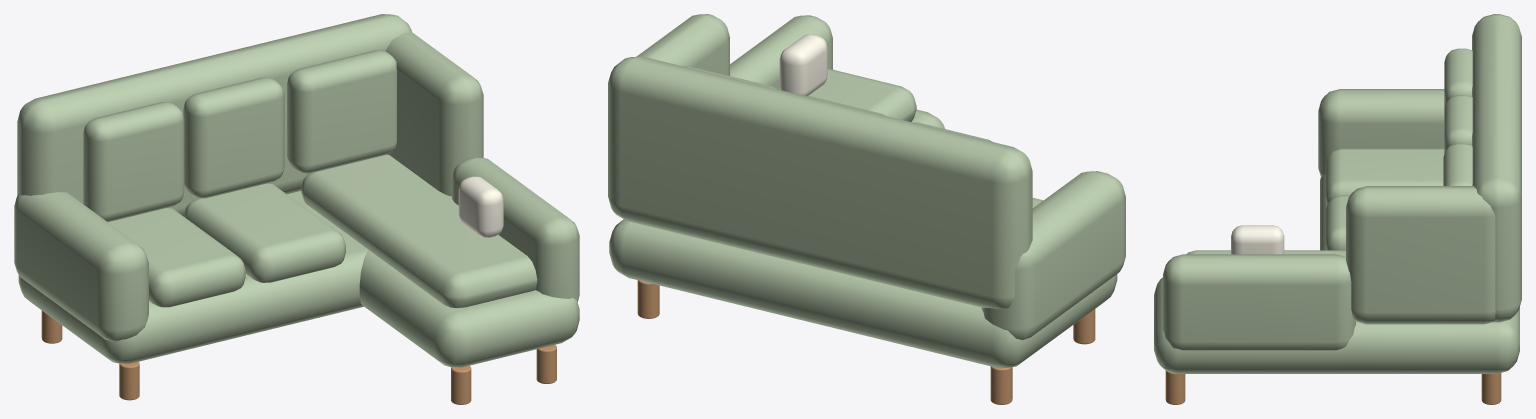
The model's file is sofaCornerSage.glb.
The picture shows the model from 3 angles, left to right: view 1: azimuth 30°, elevation 25°; view 2: azimuth 150°, elevation 25°; view 3: azimuth 270°, elevation 25°; orthographic projection. The views are drawn at different scales.
Parts seen in each view (by area): view 1: Corner sofa back, Long chaise cushion, Left sofa arm, Corner sofa main base, Extended chaise base, Chaise back cushion, Corner side back, Corner sofa back cushion.001, Corner sofa back cushion, Corner sofa seat cushion.001, Corner sofa seat cushion, Long chaise arm (+5 smaller); view 2: Corner sofa back, Corner sofa main base, Left sofa arm, Corner side back, Long chaise arm, Long chaise cushion, Cream corner pillow, Corner sofa oak foot.001, Corner sofa oak foot.002, Corner sofa oak foot; view 3: Corner side back, Long chaise arm, Corner sofa back, Corner sofa main base, Left sofa arm, Extended chaise base, Corner sofa seat cushion, Cream corner pillow, Corner sofa back cushion.001, Corner sofa back cushion, Chaise back cushion, Corner sofa seat cushion.001 (+3 smaller).
Boxes of the visible parts, x1,y1,x2,y2 form: Corner sofa back: [17, 14, 411, 216]; Long chaise cushion: [301, 154, 537, 307]; Left sofa arm: [14, 192, 148, 342]; Corner sofa main base: [18, 191, 367, 363]; Extended chaise base: [359, 249, 579, 367]; Chaise back cushion: [287, 50, 396, 173]; Corner side back: [386, 31, 483, 196]; Corner sofa back cushion.001: [183, 77, 284, 198]; Corner sofa back cushion: [83, 102, 184, 221]; Corner sofa seat cushion.001: [184, 183, 345, 282]; Corner sofa seat cushion: [108, 207, 245, 307]; Long chaise arm: [452, 157, 579, 301]; Corner sofa back: [608, 56, 1032, 308]; Corner sofa main base: [609, 219, 1117, 368]; Left sofa arm: [981, 171, 1125, 340]; Corner side back: [637, 14, 729, 75]; Long chaise arm: [730, 15, 832, 89]; Long chaise cushion: [808, 68, 916, 121]; Cream corner pillow: [779, 34, 827, 96]; Corner sofa oak foot.001: [990, 366, 1012, 404]; Corner sofa oak foot.002: [637, 280, 659, 318]; Corner sofa oak foot: [1073, 309, 1095, 344]; Corner side back: [1346, 186, 1495, 324]; Long chaise arm: [1163, 254, 1355, 350]; Corner sofa back: [1472, 14, 1521, 322]; Corner sofa main base: [1320, 174, 1519, 373]; Left sofa arm: [1318, 89, 1444, 177]; Extended chaise base: [1154, 277, 1348, 373]; Corner sofa seat cushion: [1325, 148, 1444, 205]; Cream corner pillow: [1231, 225, 1284, 254]; Corner sofa back cushion.001: [1444, 95, 1472, 153]; Corner sofa back cushion: [1444, 48, 1472, 107]; Chaise back cushion: [1443, 143, 1472, 185]; Corner sofa seat cushion.001: [1325, 195, 1349, 250].
Size of the model in its own units: 2.46 by 1.41 by 2.06.
